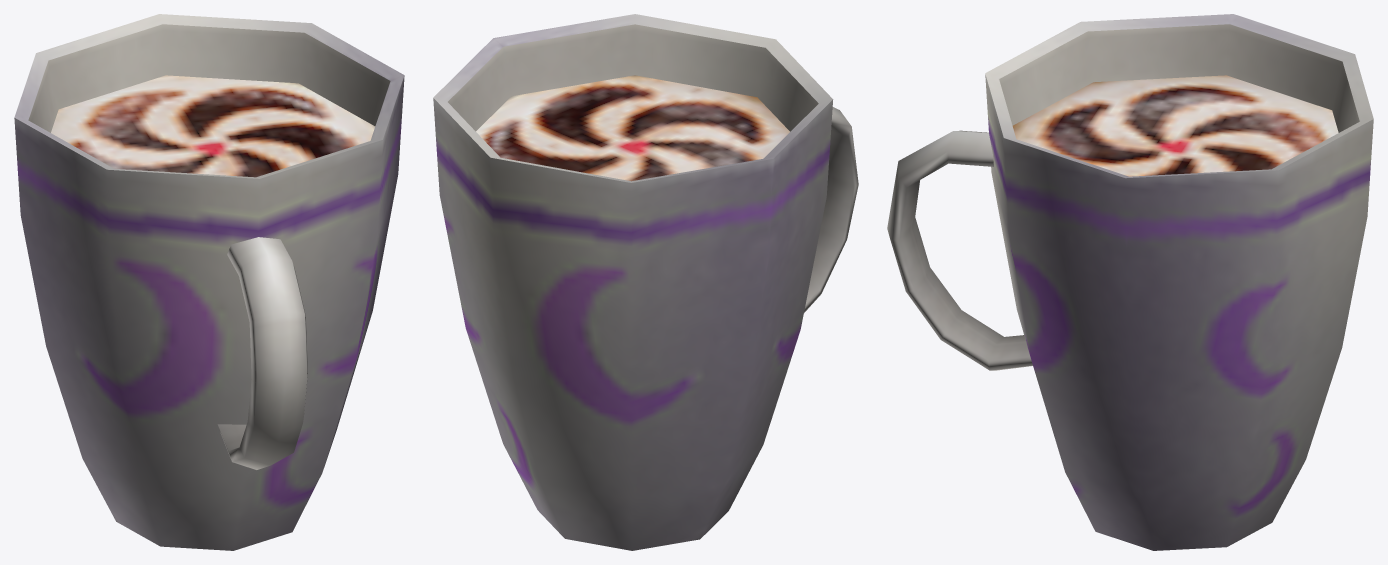
The model's file is ZhiBanShi_01_kafei_01_uv2.FBX.
3 views of the same model, side by side, from view 1: azimuth 30°, elevation 25°; view 2: azimuth 150°, elevation 25°; view 3: azimuth 270°, elevation 25° (orthographic).
Parts seen in each view (by area): view 1: ZhiBanShi_shuibei_01; view 2: ZhiBanShi_shuibei_01; view 3: ZhiBanShi_shuibei_01.
Part boxes in pixels (x1,y1,x2,y2): ZhiBanShi_shuibei_01: (14, 14, 404, 550); ZhiBanShi_shuibei_01: (433, 14, 858, 550); ZhiBanShi_shuibei_01: (887, 14, 1373, 550).
Size of the model in its own units: 45.55 by 53.76 by 57.04.
